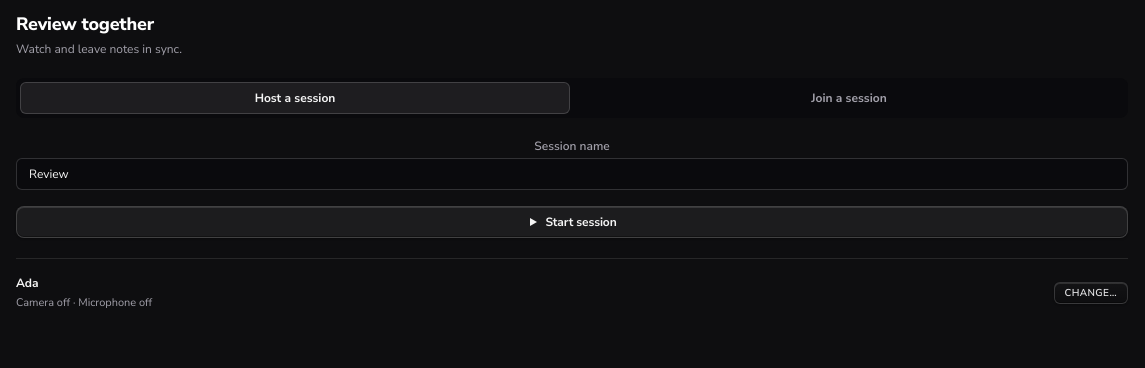
Test case: session names › protects a user-edited name that becomes taken while mounted
This screenshot has width=1145, height=368.
Expected: the button "Start session" is enabled, [16,206,1128,238]
Type "Rough cut" into the field labelled "Session name" at (572, 174), box [16,158,1128,190]
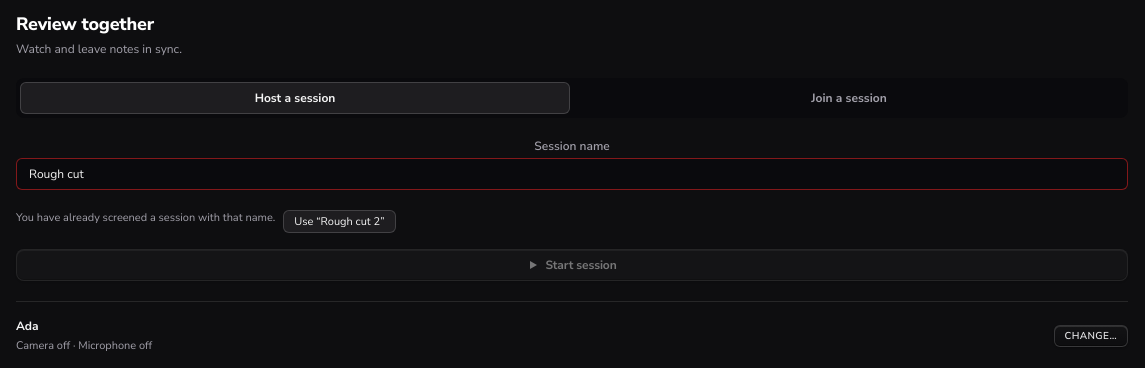
Now the button "Start session" is disabled, box [16,249,1128,281]
